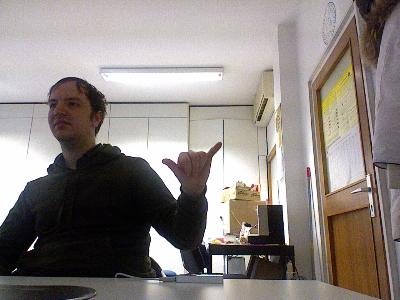六六六: (160, 141, 222, 191)
